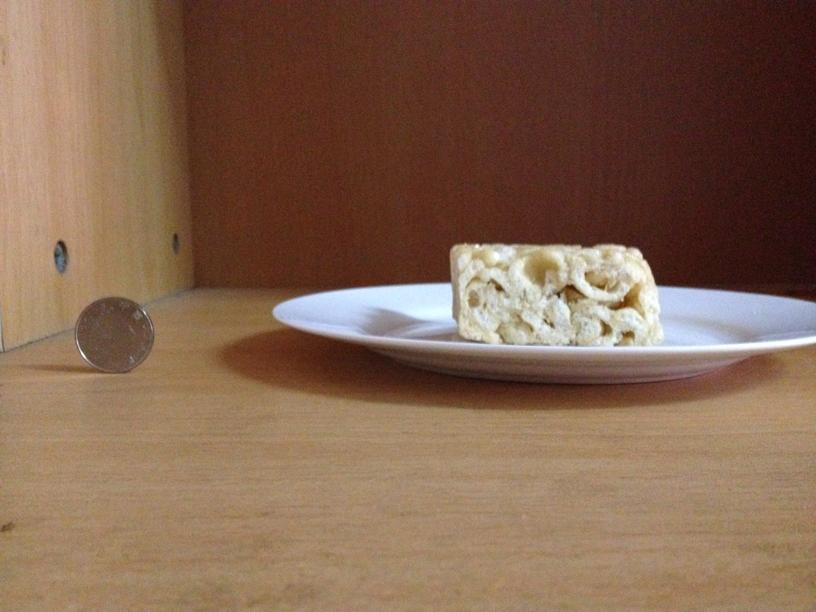coin: (76, 297, 154, 374)
sachima: (451, 243, 658, 348)
